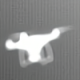plane: (4, 24, 74, 68)
